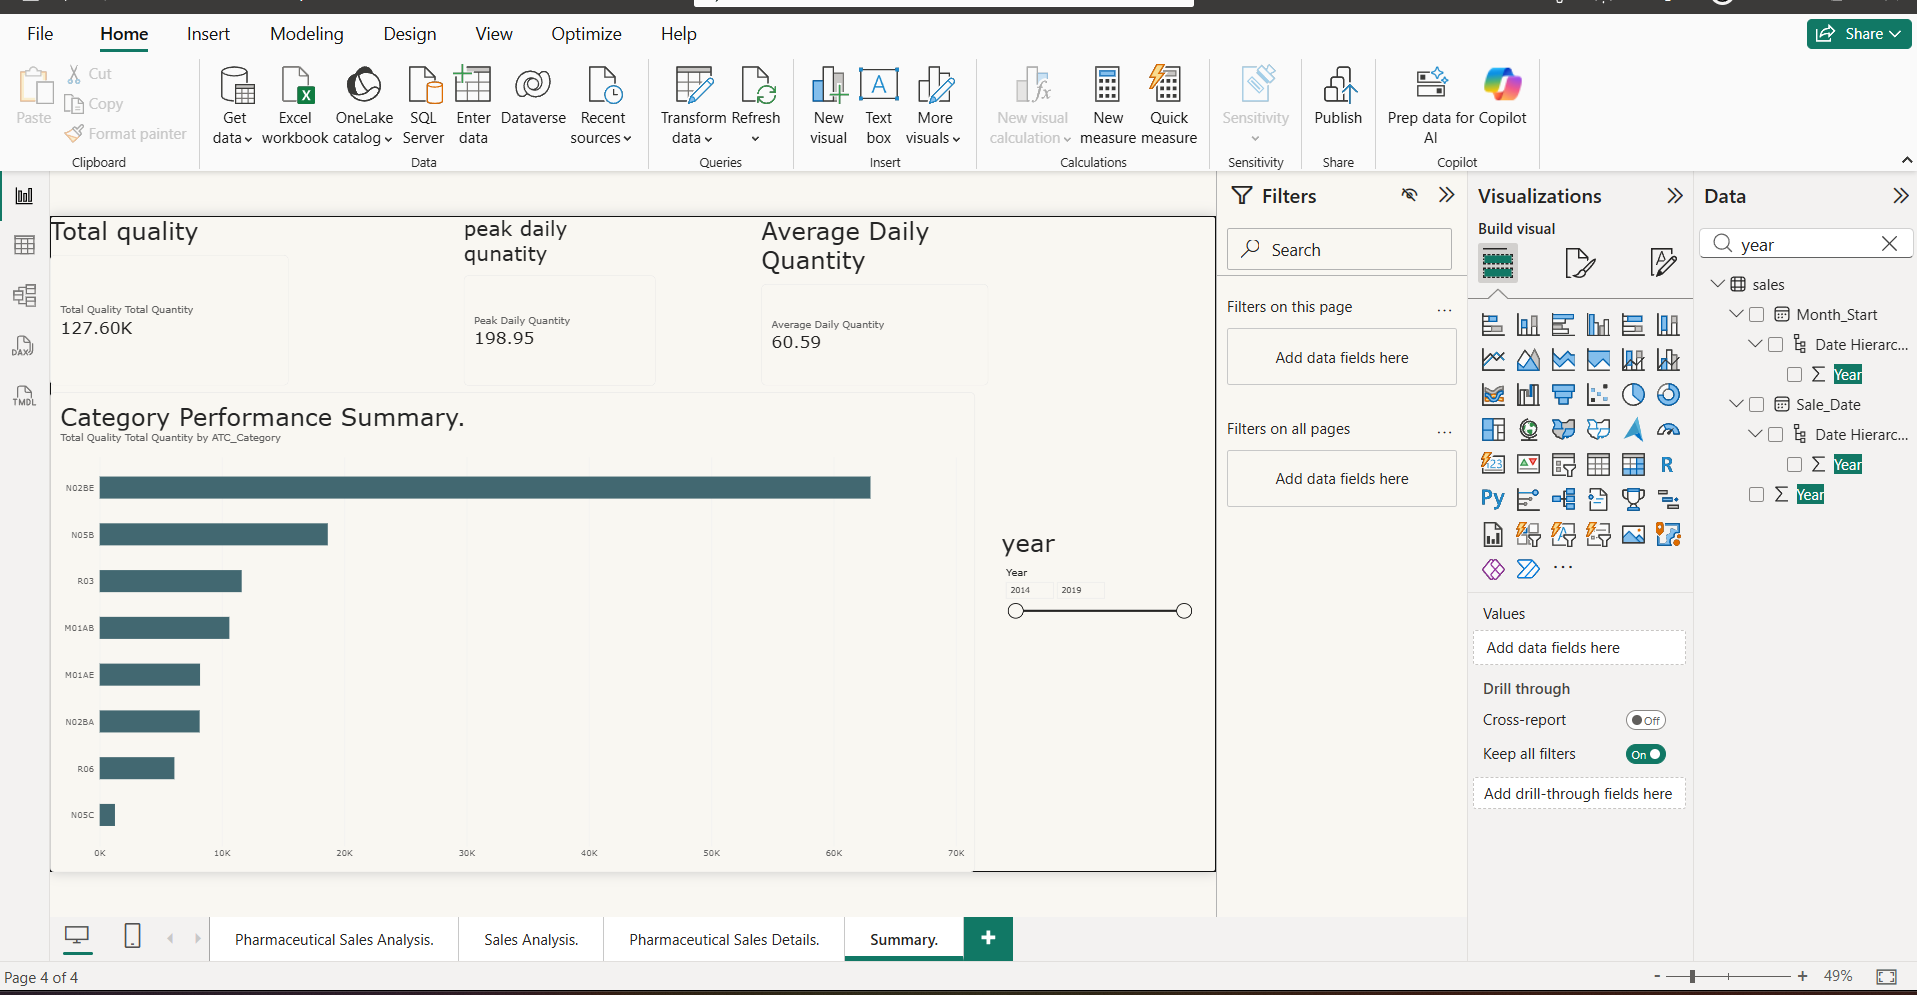

The page's visual inventory and layout, read from the dashboard file:
{"tool":"powerbi","page":{"name":"Summary.","canvas":[1920,1080],"ordinal":3},"visuals":[{"type":"cardVisual","title":"Total quality","fields":{"Data":["sales.Total Quality Total Quantity"]},"box":[0,0,393.1,279.9],"z":0},{"type":"cardVisual","title":"peak daily qunatity","fields":{"Data":["sales.Peak Daily Quantity"]},"box":[681.3,0,317,279.9],"z":1},{"type":"cardVisual","title":"Average Daily Quantity","fields":{"Data":["sales.Average Daily Quantity"]},"box":[1171.2,0,374.6,279.9],"z":2},{"type":"clusteredBarChart","title":"Category Performance Summary.","fields":{"Category":["sales.ATC_Category"],"Y":["sales.Total Quality Total Quantity"]},"box":[0,290.2,1523.2,790.4],"z":3},{"type":"slicer","title":"year ","fields":{"Values":["sales.Month_Start.Variation.Date Hierarchy.Year"]},"box":[1566.4,512.5,317,226.4],"z":4}]}

Visuals, with their boxes on the page's 1920x1080 design canvas (x1, y1, x2, y2). These are canvas units, not pixel positions in the 1917x995 screenshot, which may show the page scaled, cropped or inside an application window:
"Total quality" cardVisual: select_region(0, 0, 393, 280)
"peak daily qunatity" cardVisual: select_region(681, 0, 998, 280)
"Average Daily Quantity" cardVisual: select_region(1171, 0, 1546, 280)
"Category Performance Summary." clusteredBarChart: select_region(0, 290, 1523, 1081)
"year " slicer: select_region(1566, 512, 1883, 739)
